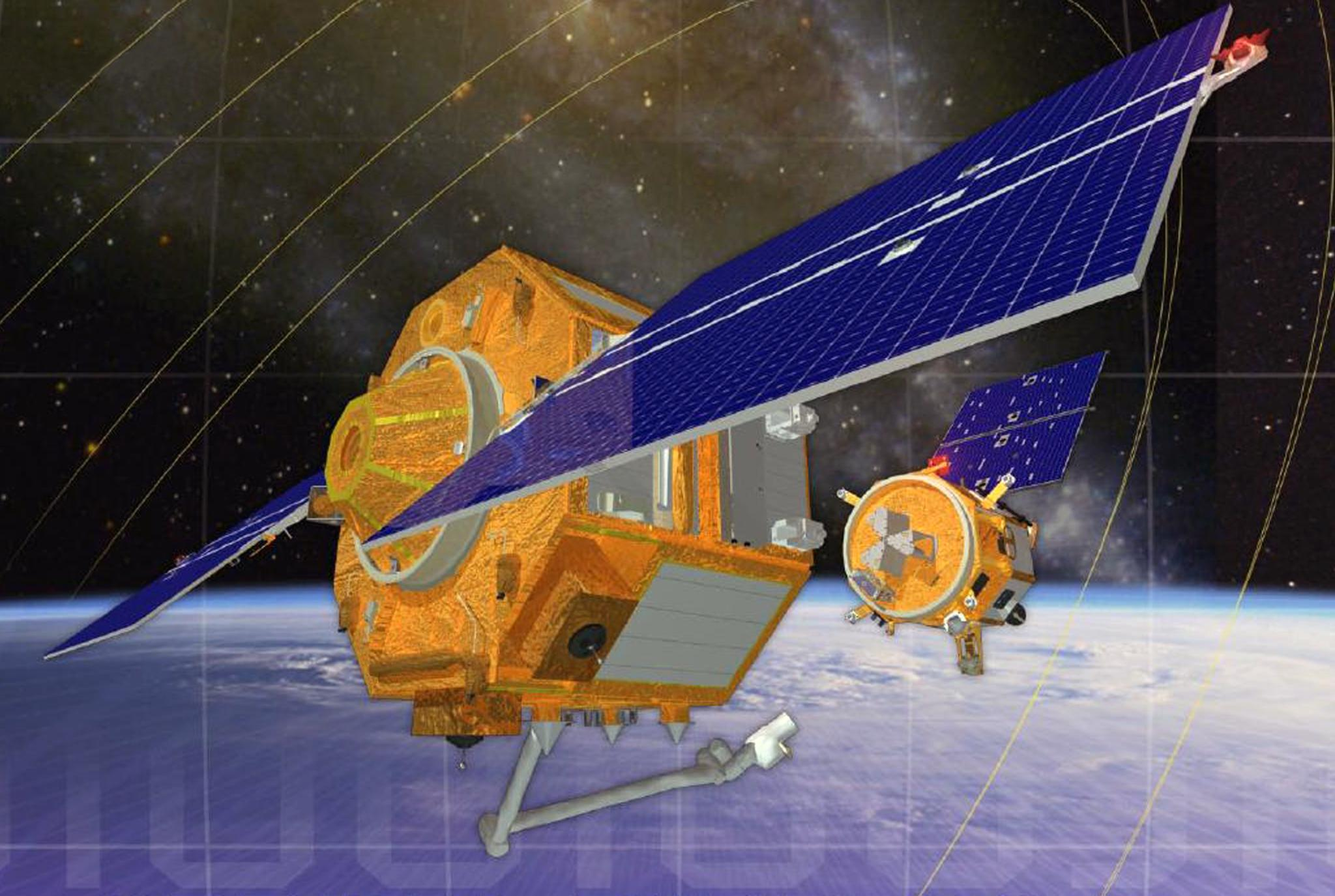antenna: (523, 697, 575, 757), (654, 697, 699, 749), (565, 620, 609, 668), (443, 733, 486, 775), (592, 700, 628, 749), (1005, 602, 1028, 628)
body: (328, 240, 820, 709), (842, 475, 1035, 636)
solar: (355, 3, 1237, 554), (42, 466, 332, 662), (923, 348, 1109, 496)
thruster: (324, 345, 506, 589), (834, 488, 849, 500), (962, 597, 975, 609), (1001, 475, 1012, 487), (845, 613, 856, 623)
